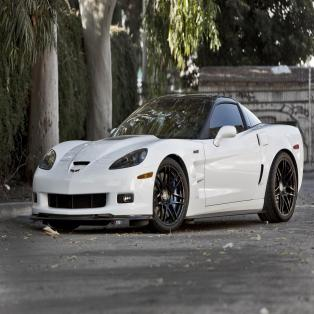Auto: (31, 88, 306, 234)
